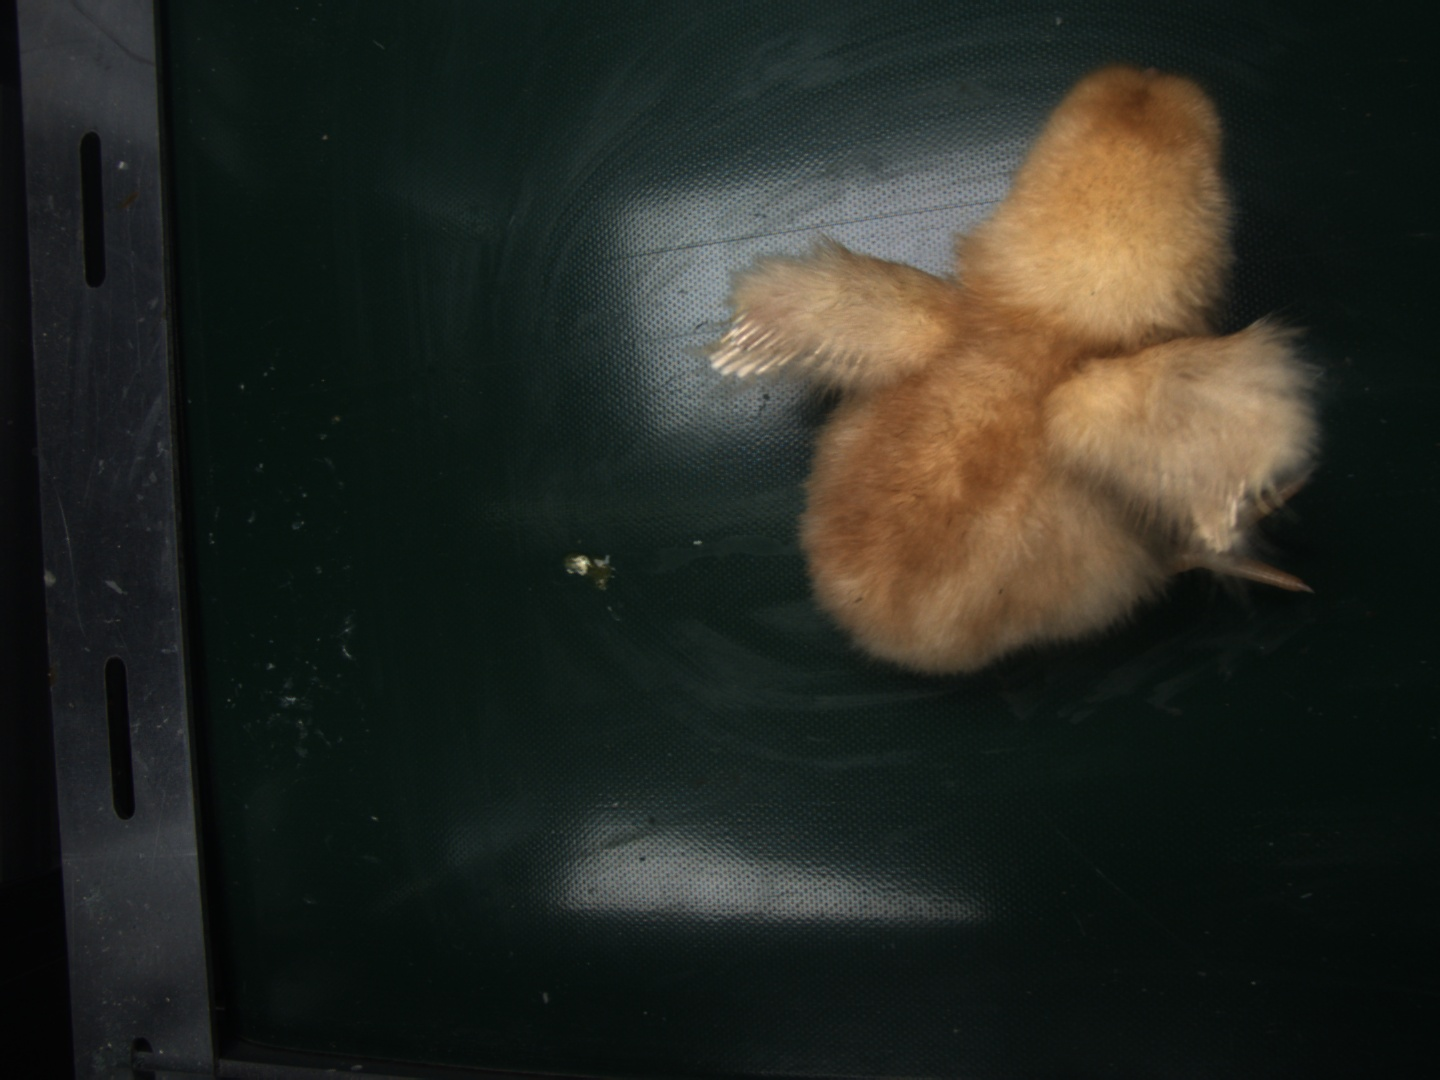female: (705, 312, 801, 378)
